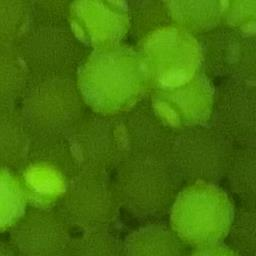negative: (113, 149, 181, 214), (60, 161, 122, 229), (171, 125, 235, 180), (70, 116, 132, 170), (22, 78, 80, 134), (212, 77, 256, 148), (12, 210, 70, 256), (202, 29, 256, 77), (123, 224, 188, 256), (0, 0, 37, 51), (0, 105, 33, 161), (0, 51, 30, 104), (232, 196, 256, 256), (71, 230, 126, 256), (226, 150, 256, 195)
positive: (77, 46, 150, 116), (136, 28, 202, 92), (169, 180, 234, 244), (66, 0, 131, 46), (160, 0, 225, 36), (22, 162, 67, 211), (0, 160, 25, 231), (221, 0, 256, 40), (188, 242, 243, 256)
